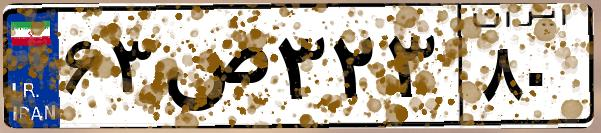0: (525, 38, 570, 115)
2: (330, 28, 385, 110)
3: (270, 28, 330, 110), (385, 28, 445, 110), (110, 28, 158, 98)
6: (57, 26, 110, 100)
8: (475, 38, 525, 113)
ص: (158, 20, 270, 120)
